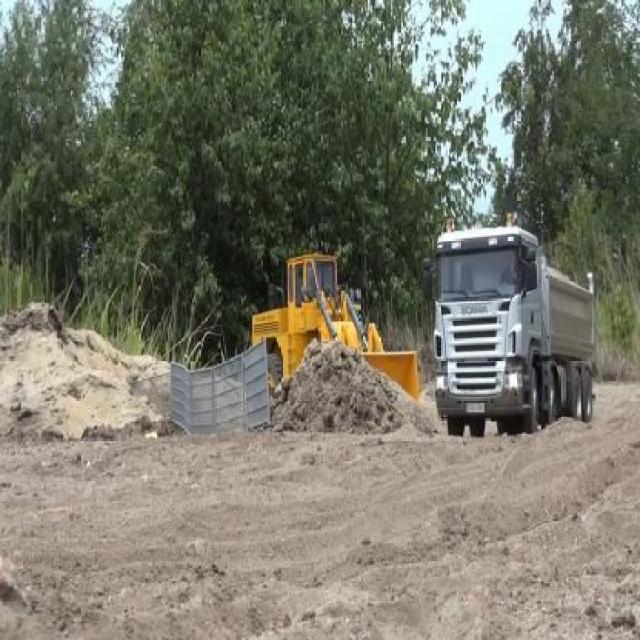Dump Truck: (436, 211, 598, 440)
Loader: (252, 248, 418, 404)
